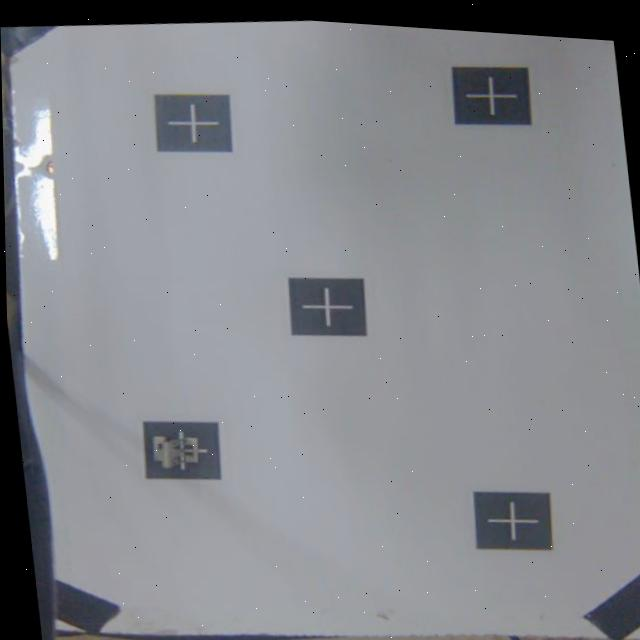pick2: (140, 415, 225, 487)
